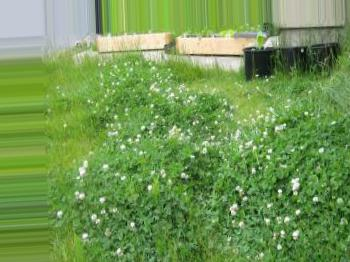patch: (56, 102, 85, 132), (57, 230, 87, 258), (67, 136, 90, 157), (52, 71, 76, 91), (191, 79, 227, 92), (235, 102, 263, 118), (231, 79, 253, 97), (51, 146, 64, 169)
